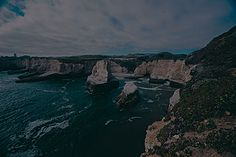mountain: (153, 26, 234, 149), (3, 69, 113, 153)
sky_cloud: (0, 10, 232, 51)
